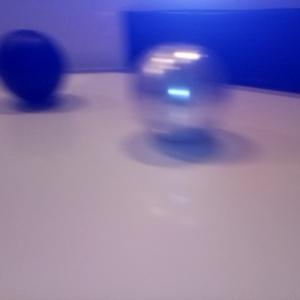alive_ball: (133, 41, 219, 142)
dead_ball: (1, 28, 61, 102)
